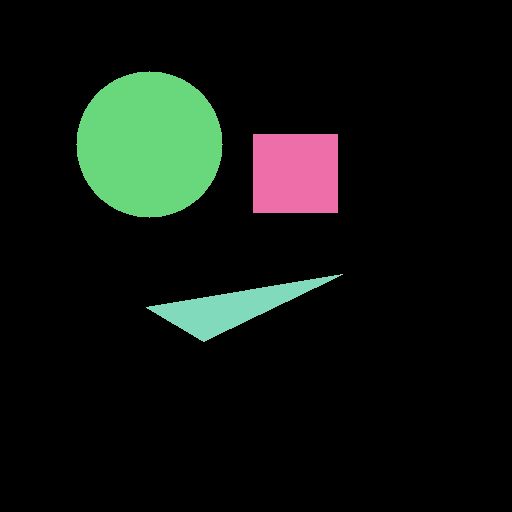circle: (76, 71, 222, 217)
square: (253, 134, 337, 212)
triangle: (146, 274, 342, 341)
